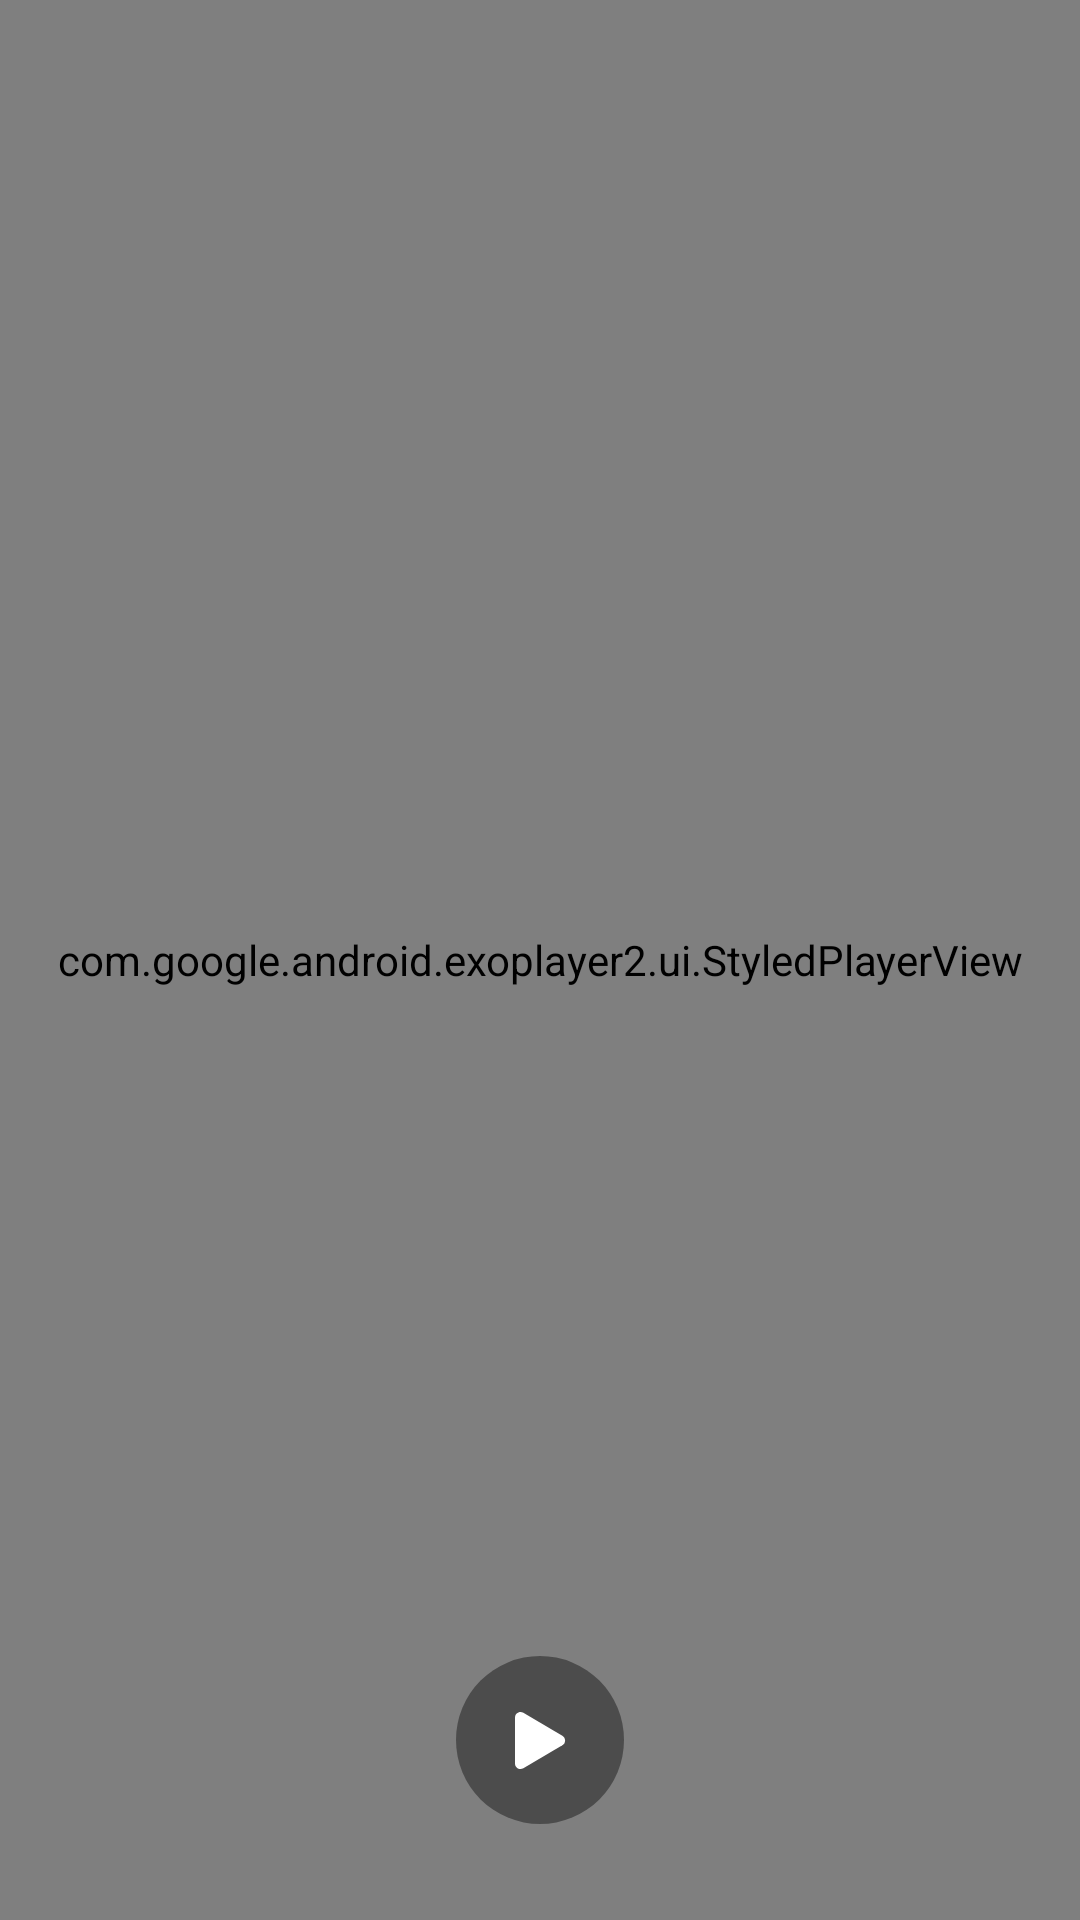

Point at icon controls on the screen. Image size 1080px×1920px, points as point (x, y).
video play: point (540, 1740)
